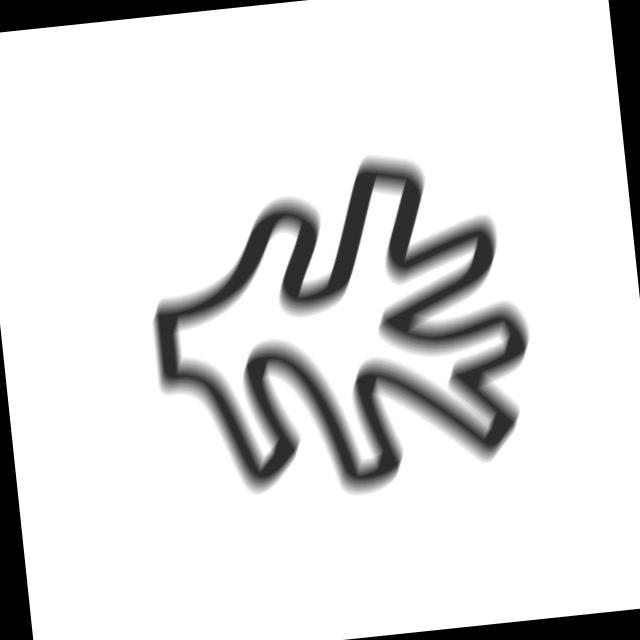coral: (128, 135, 550, 522)
